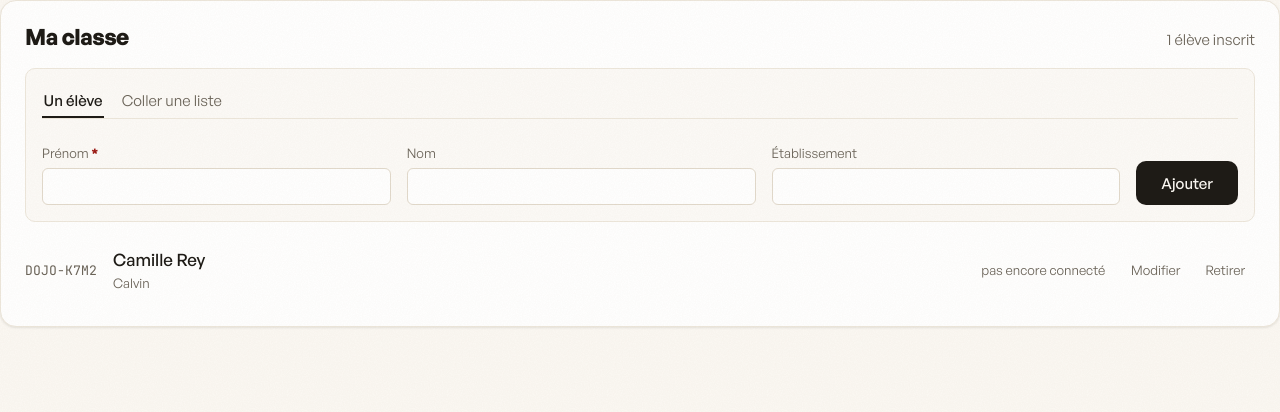
Classe — corriger et retirer › renonce à la modification sur Annuler
Click the button "Modifier".
click(1156, 270)  # box [1121,254,1190,286]
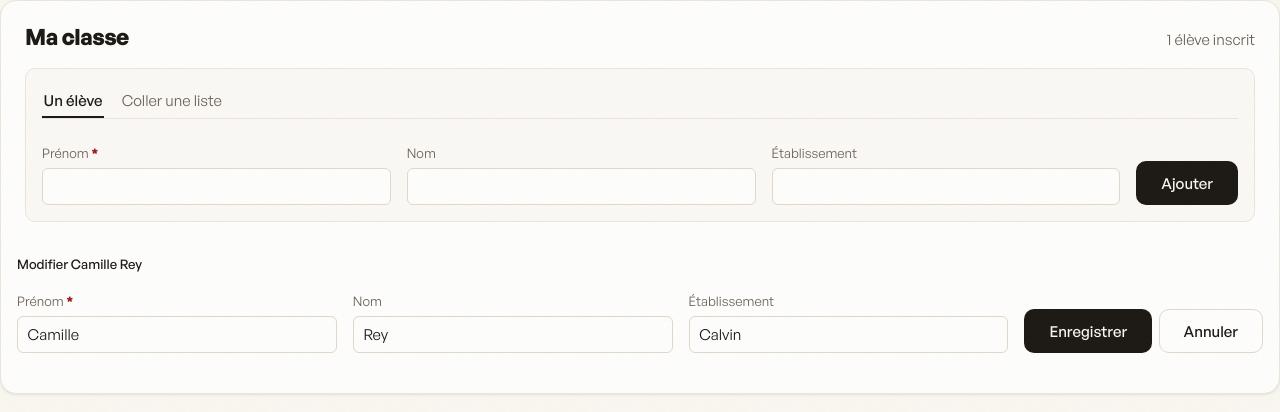
Click the button "Annuler".
click(1211, 331)  # box [1158,309,1263,353]
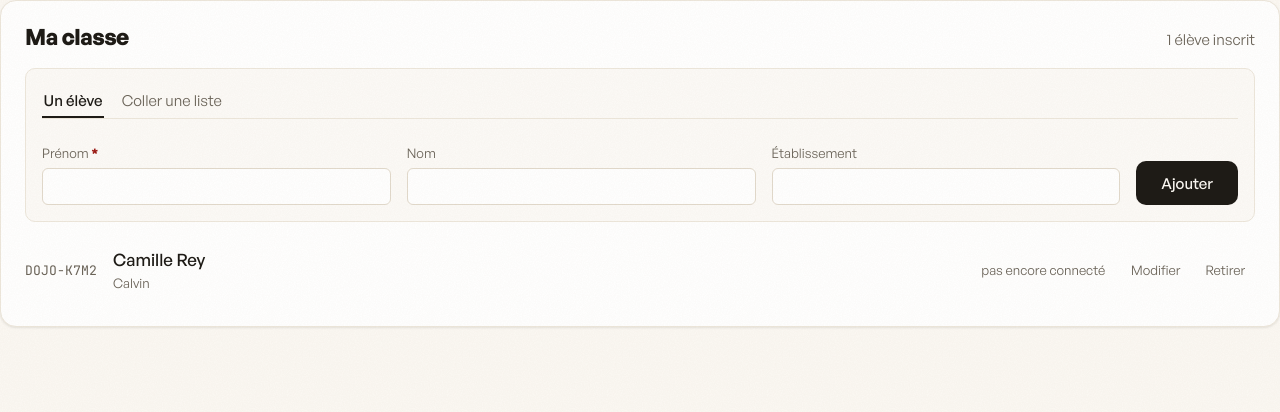
Expected: the button "Modifier" is shown, [1121,254,1190,286]
